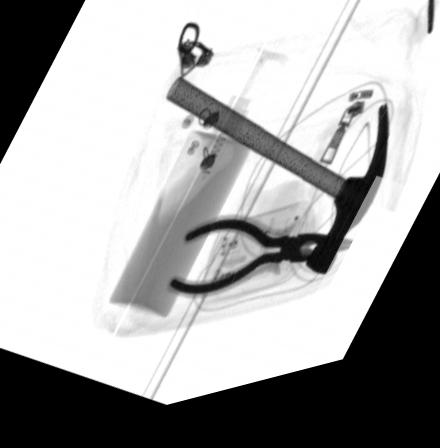Hammer: (165, 85, 390, 293)
Pliers: (166, 225, 356, 308)
